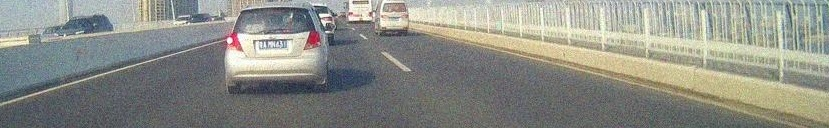L_light: (225, 33, 243, 51)
R_light: (303, 32, 322, 50)
T_light: (266, 7, 283, 11)
day-left: (225, 5, 324, 93)
